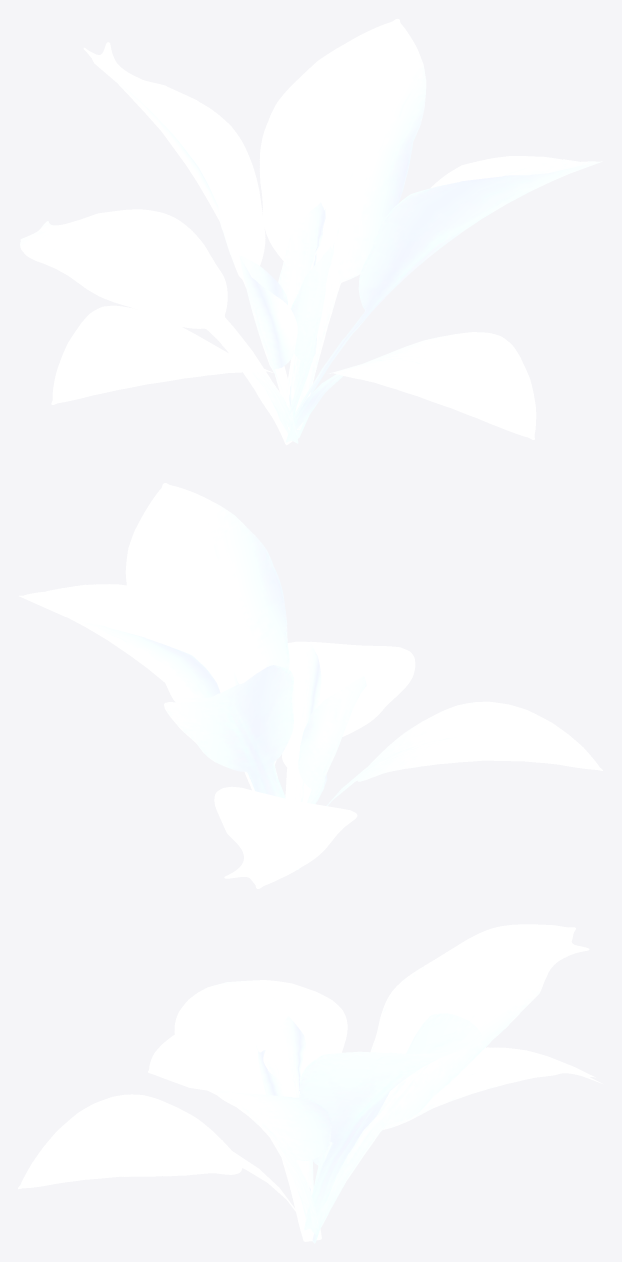
3 renders of one model, top to bottom at view 1: azimuth 30°, elevation 25°; view 2: azimuth 150°, elevation 25°; view 3: azimuth 270°, elevation 25°, orthographic. The views are drawn at different scales.
Parts seen in each view (by area): view 1: SM_FH_Sm_Plant_01_LOD0; view 2: SM_FH_Sm_Plant_01_LOD0; view 3: SM_FH_Sm_Plant_01_LOD0.
Boxes of the visible parts, left/top/right/bottom form: SM_FH_Sm_Plant_01_LOD0: left=20, top=19, right=602, bottom=445; SM_FH_Sm_Plant_01_LOD0: left=19, top=483, right=602, bottom=888; SM_FH_Sm_Plant_01_LOD0: left=18, top=924, right=602, bottom=1243.
Bounding box in the file's own units: 1.33 × 0.7758 × 1.43.
1 material, 1 textured.
